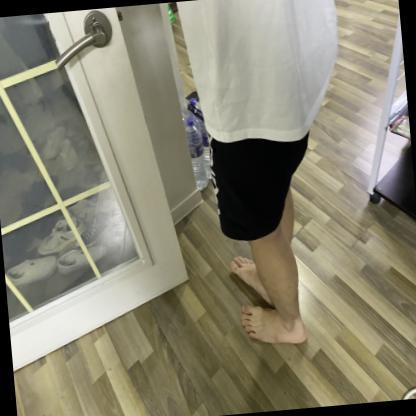no_safety-shoe: (243, 300, 320, 369), (225, 248, 284, 309)
